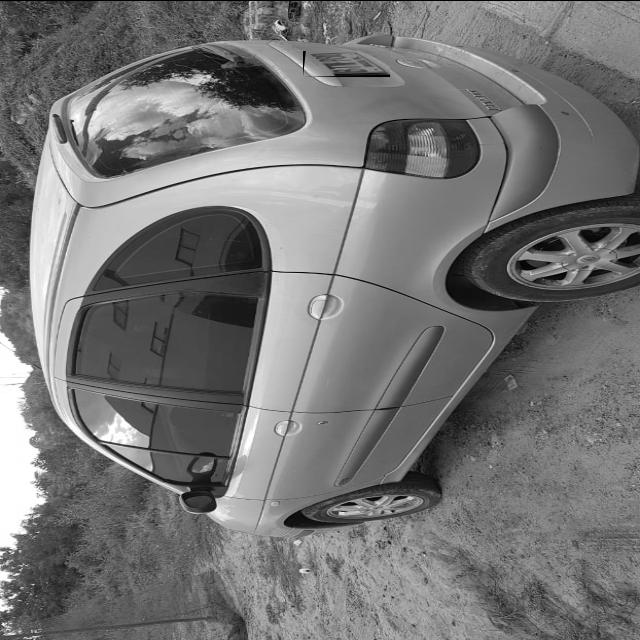plate: (305, 50, 390, 74)
